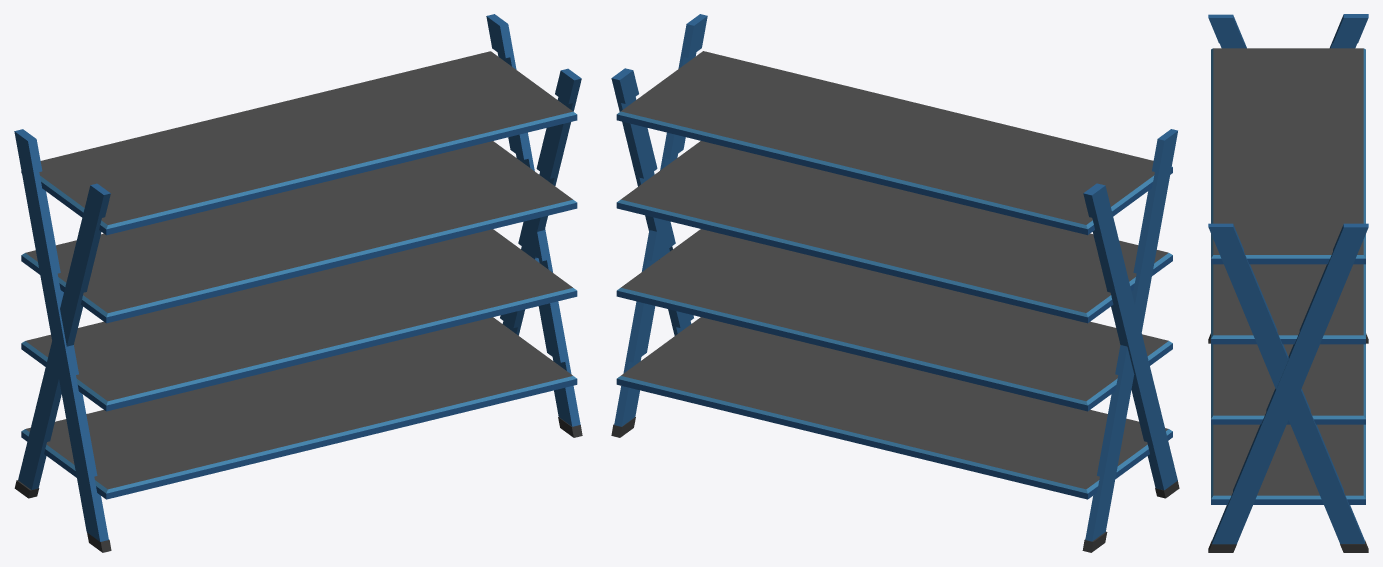
File: Large Blue Shelf.fbx
The picture shows the model from 3 angles, left to right: view 1: azimuth 30°, elevation 25°; view 2: azimuth 150°, elevation 25°; view 3: azimuth 270°, elevation 25°; orthographic projection. The views are drawn at different scales.
Visible parts, largest first — view 1: Large Blue Shelf; view 2: Large Blue Shelf; view 3: Large Blue Shelf.
Boxes of the visible parts, x1,y1,x2,y2 form: Large Blue Shelf: [14, 14, 582, 552]; Large Blue Shelf: [611, 14, 1179, 552]; Large Blue Shelf: [1208, 14, 1368, 552].
Size of the model in its own units: 241 by 172 by 76.72.
1 material, 1 textured.
